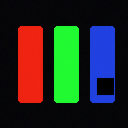1 square: (97, 78, 113, 94)
